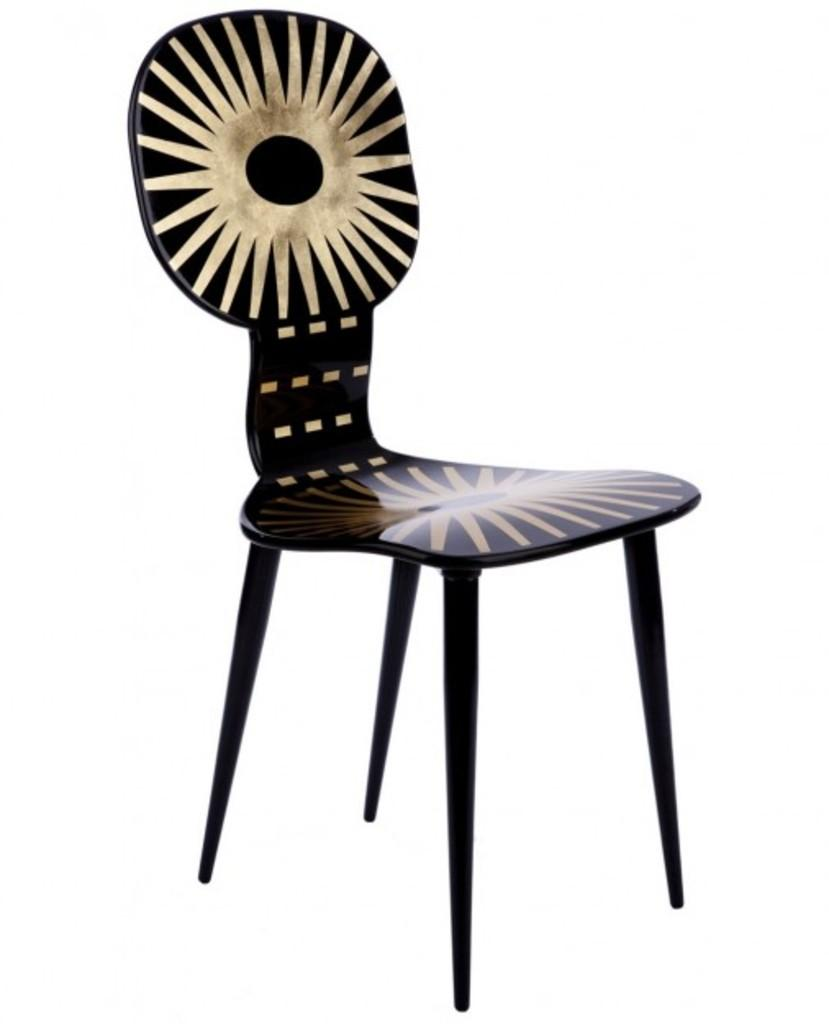Chair: (129, 7, 700, 1013)
